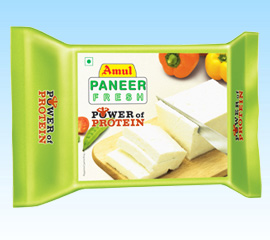VEG: (84, 56, 94, 67)
